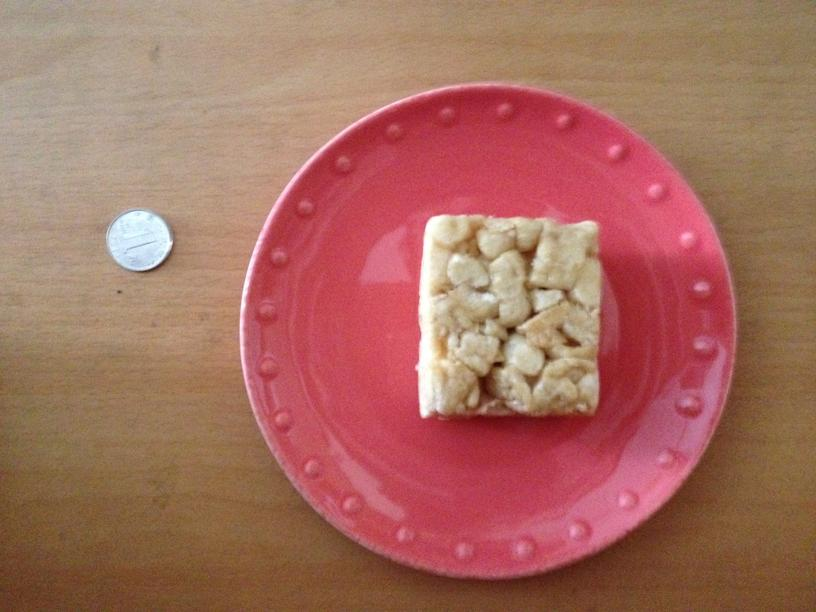coin: (103, 209, 172, 271)
sachima: (415, 208, 608, 419)
